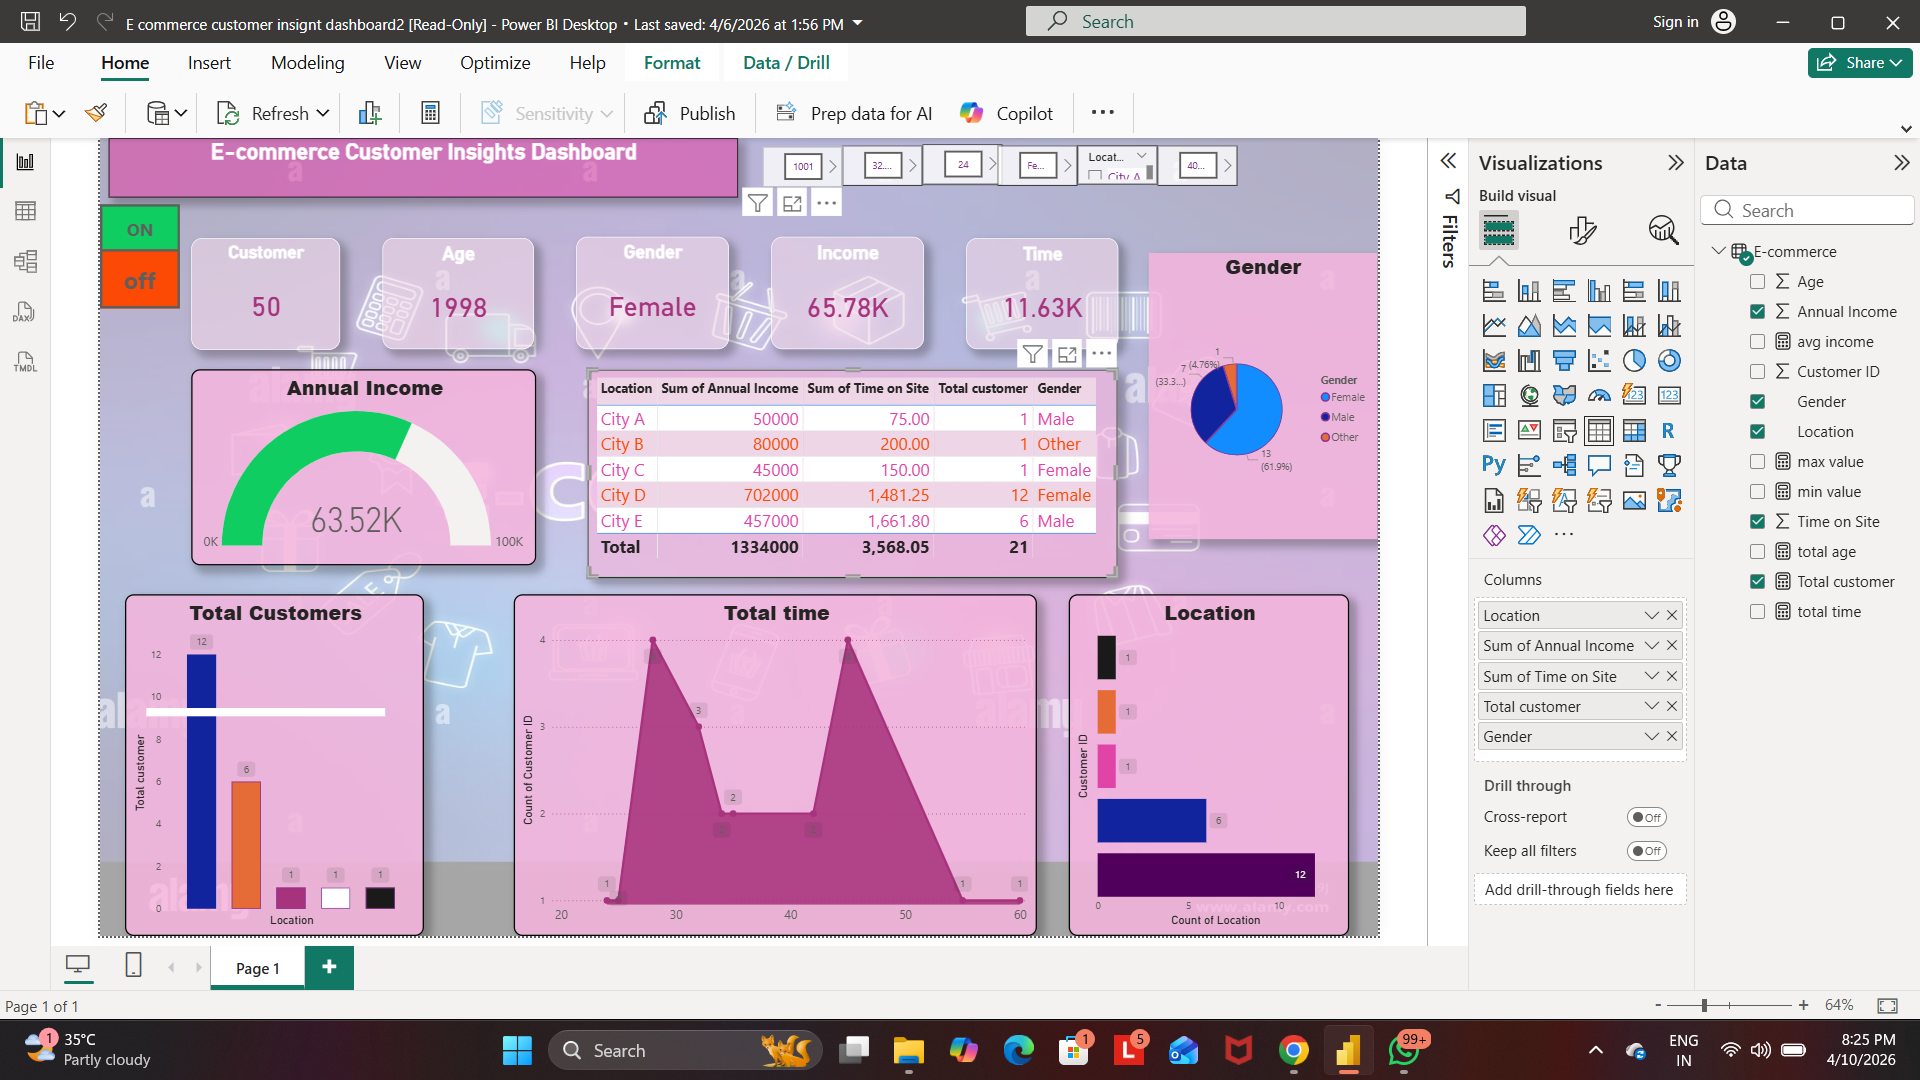

The dashboard page shown, as its layout file describes it:
{"tool":"powerbi","page":{"name":"Page 1","canvas":[1600,1000],"ordinal":0},"visuals":[{"type":"textbox","title":"E-commerce Customer Insights Dashboard","box":[11.5,0,787.9,74.4],"z":0},{"type":"clusteredColumnChart","title":"Total Customers","fields":{"Category":["E-commerce.Location"],"Y":["E-commerce.Total customer"]},"box":[30.9,572,374.2,428.3],"z":1000},{"type":"card","title":"Customer","fields":{"Values":["CountNonNull(E-commerce.Customer ID)"]},"box":[114,126,186,140],"z":2000},{"type":"slicer","fields":{"Values":["E-commerce.Age"]},"box":[1030.5,7.7,100.1,50],"z":3000},{"type":"slicer","fields":{"Values":["E-commerce.Gender"]},"box":[1124.2,9,100.1,50],"z":4000},{"type":"slicer","fields":{"Values":["E-commerce.Location"]},"box":[1224.3,9,100.1,48.8],"z":5000},{"type":"slicer","fields":{"Values":["E-commerce.Time on Site"]},"box":[930.4,9,100.1,50],"z":6000},{"type":"slicer","fields":{"Values":["E-commerce.Customer ID"]},"box":[829,10.3,100.1,50],"z":7000},{"type":"slicer","fields":{"Values":["E-commerce.Annual Income"]},"box":[1324.4,9,100.1,50],"z":7500},{"type":"card","title":"Income","fields":{"Values":["Avg(E-commerce.Annual Income)"]},"box":[840,123.2,191.2,141.2],"z":8000},{"type":"card","title":"Age","fields":{"Values":["Sum(E-commerce.Age)"]},"box":[353.1,125.2,189.4,139.3],"z":9000},{"type":"card","title":"Time","fields":{"Values":["Sum(E-commerce.Time on Site)"]},"box":[1084.3,125,190.4,139.5],"z":10000},{"type":"card","title":"Gender","fields":{"Values":["Min(E-commerce.Gender)"]},"box":[595.7,123.2,191.2,141.2],"z":12000},{"type":"textbox","box":[58.7,714.1,299.6,6.1],"z":13000},{"type":"pieChart","title":"Gender","fields":{"Y":["CountNonNull(E-commerce.Customer ID)"],"Category":["E-commerce.Gender"]},"box":[1313.4,144,286.5,358.5],"z":14000},{"type":"lineChart","title":"Total time","fields":{"Category":["E-commerce.Age"],"Y":["CountNonNull(E-commerce.Customer ID)"]},"box":[517.9,572,655.5,428.3],"z":15000},{"type":"clusteredBarChart","title":"Location","fields":{"Category":["E-commerce.Customer ID"],"Y":["CountNonNull(E-commerce.Location)"]},"box":[1213.7,572,351,428.3],"z":16000},{"type":"gauge","title":"Annual Income","fields":{"Y":["E-commerce.avg income"],"MinValue":["E-commerce.min value"],"MaxValue":["E-commerce.max value"]},"box":[114.3,289.6,432.1,245.8],"z":17000},{"type":"tableEx","title":"Customer Behavior ","fields":{"Values":["E-commerce.Location","Sum(E-commerce.Annual Income)","Sum(E-commerce.Time on Site)","E-commerce.Total customer","E-commerce.Gender"]},"box":[610.9,289.2,612.8,262.1],"z":18000},{"type":"actionButton","box":[0,83,100.2,61.1],"z":18002},{"type":"actionButton","box":[0,140,100,74],"z":18003}]}

Visuals, with their boxes on the page's 1600x1000 design canvas (x1, y1, x2, y2). These are canvas units, not pixel positions in the 1920x1080 screenshot, which may show the page scaled, cropped or inside an application window:
"E-commerce Customer Insights Dashboard" textbox: bbox=(12, 0, 799, 74)
"Total Customers" clusteredColumnChart: bbox=(31, 572, 405, 1000)
"Customer" card: bbox=(114, 126, 300, 266)
slicer - E-commerce.Age: bbox=(1030, 8, 1131, 58)
slicer - E-commerce.Gender: bbox=(1124, 9, 1224, 59)
slicer - E-commerce.Location: bbox=(1224, 9, 1324, 58)
slicer - E-commerce.Time on Site: bbox=(930, 9, 1030, 59)
slicer - E-commerce.Customer ID: bbox=(829, 10, 929, 60)
slicer - E-commerce.Annual Income: bbox=(1324, 9, 1424, 59)
"Income" card: bbox=(840, 123, 1031, 264)
"Age" card: bbox=(353, 125, 542, 264)
"Time" card: bbox=(1084, 125, 1275, 264)
"Gender" card: bbox=(596, 123, 787, 264)
textbox: bbox=(59, 714, 358, 720)
"Gender" pieChart: bbox=(1313, 144, 1600, 502)
"Total time" lineChart: bbox=(518, 572, 1173, 1000)
"Location" clusteredBarChart: bbox=(1214, 572, 1565, 1000)
"Annual Income" gauge: bbox=(114, 290, 546, 535)
"Customer Behavior " tableEx: bbox=(611, 289, 1224, 551)
actionButton: bbox=(0, 83, 100, 144)
actionButton: bbox=(0, 140, 100, 214)
